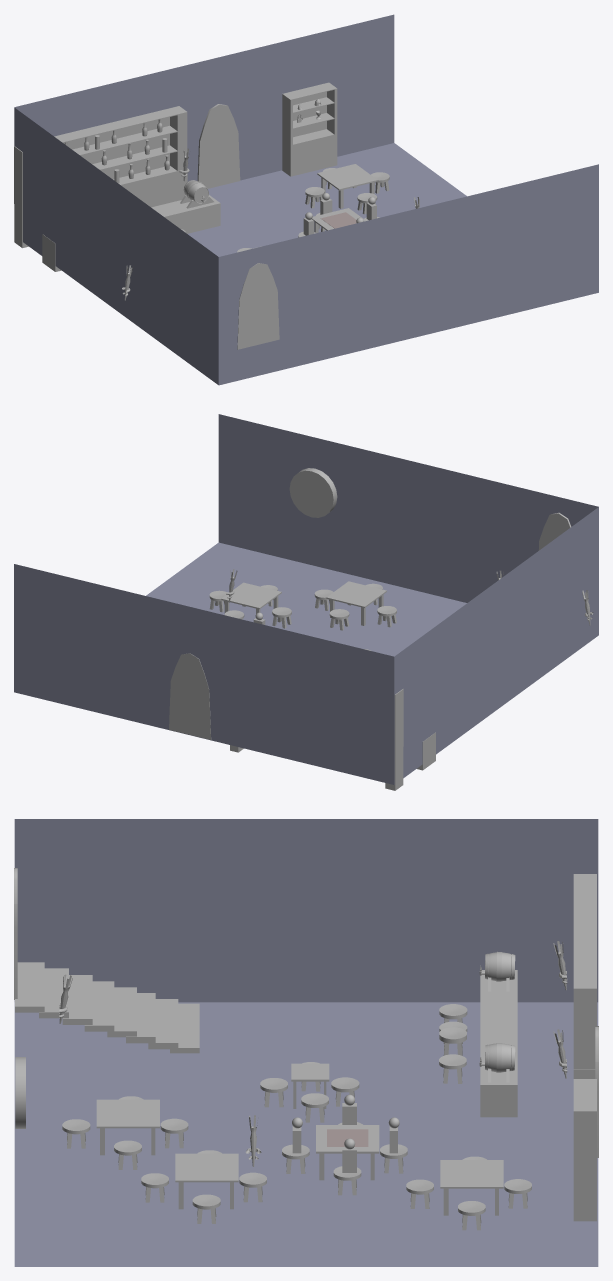
The model's file is PubSet.fbx.
3 renders of one model, top to bottom at view 1: azimuth 30°, elevation 25°; view 2: azimuth 150°, elevation 25°; view 3: azimuth 270°, elevation 25°, orthographic. The views are drawn at different scales.
Parts seen in each view (by area): view 1: Ground, Shelf, pCube60, pCube53, pCube52, pCube49, pCube51, pCube45, pCube50, pCube35, BarKeg1; view 2: Ground, pCube60, pCylinder6, pCube61, pCube66, pCube53, pCube49; view 3: Ground, pCube45, Shelf, pCube52, pCube66, pCube61, pCube35, pCube54, pCube29, pCube71, pCube56, pCube57 (+11 smaller).
Part boxes in pixels (left/top/right/bottom): Ground: left=14, top=14, right=598, bottom=385; Shelf: left=282, top=82, right=337, bottom=176; pCube60: left=197, top=104, right=240, bottom=188; pCube53: left=237, top=263, right=279, bottom=349; pCube52: left=14, top=106, right=187, bottom=173; pCube49: left=14, top=166, right=187, bottom=248; pCube51: left=14, top=125, right=187, bottom=190; pCube45: left=42, top=195, right=220, bottom=271; pCube50: left=14, top=145, right=187, bottom=209; pCube35: left=317, top=164, right=377, bottom=208; BarKeg1: left=180, top=180, right=213, bottom=208; Ground: left=14, top=414, right=598, bottom=784; pCube60: left=169, top=653, right=211, bottom=739; pCylinder6: left=289, top=468, right=337, bottom=517; pCube61: left=326, top=581, right=386, bottom=625; pCube66: left=221, top=582, right=281, bottom=613; pCube53: left=538, top=512, right=571, bottom=550; pCube49: left=230, top=745, right=403, bottom=790; Ground: left=14, top=819, right=598, bottom=1266; pCube45: left=480, top=970, right=517, bottom=1117; Shelf: left=573, top=1079, right=596, bottom=1221; pCube52: left=573, top=874, right=596, bottom=1013; pCube66: left=175, top=1153, right=238, bottom=1209; pCube61: left=96, top=1099, right=159, bottom=1155; pCube35: left=440, top=1160, right=503, bottom=1215; pCube54: left=15, top=962, right=44, bottom=1012; pCube29: left=316, top=1125, right=379, bottom=1180; pCube71: left=148, top=999, right=178, bottom=1049; pCube56: left=62, top=975, right=92, bottom=1024; pCube57: left=84, top=981, right=114, bottom=1031.
Size of the model in its own units: 195 by 59.24 by 164.
